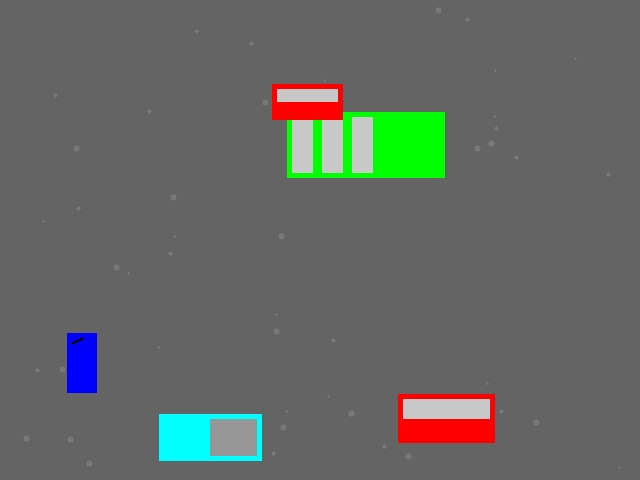bus: (287, 112, 444, 177)
car: (398, 394, 494, 442), (272, 84, 342, 119)
motorcycle: (67, 333, 96, 392)
truck: (159, 414, 261, 460)
